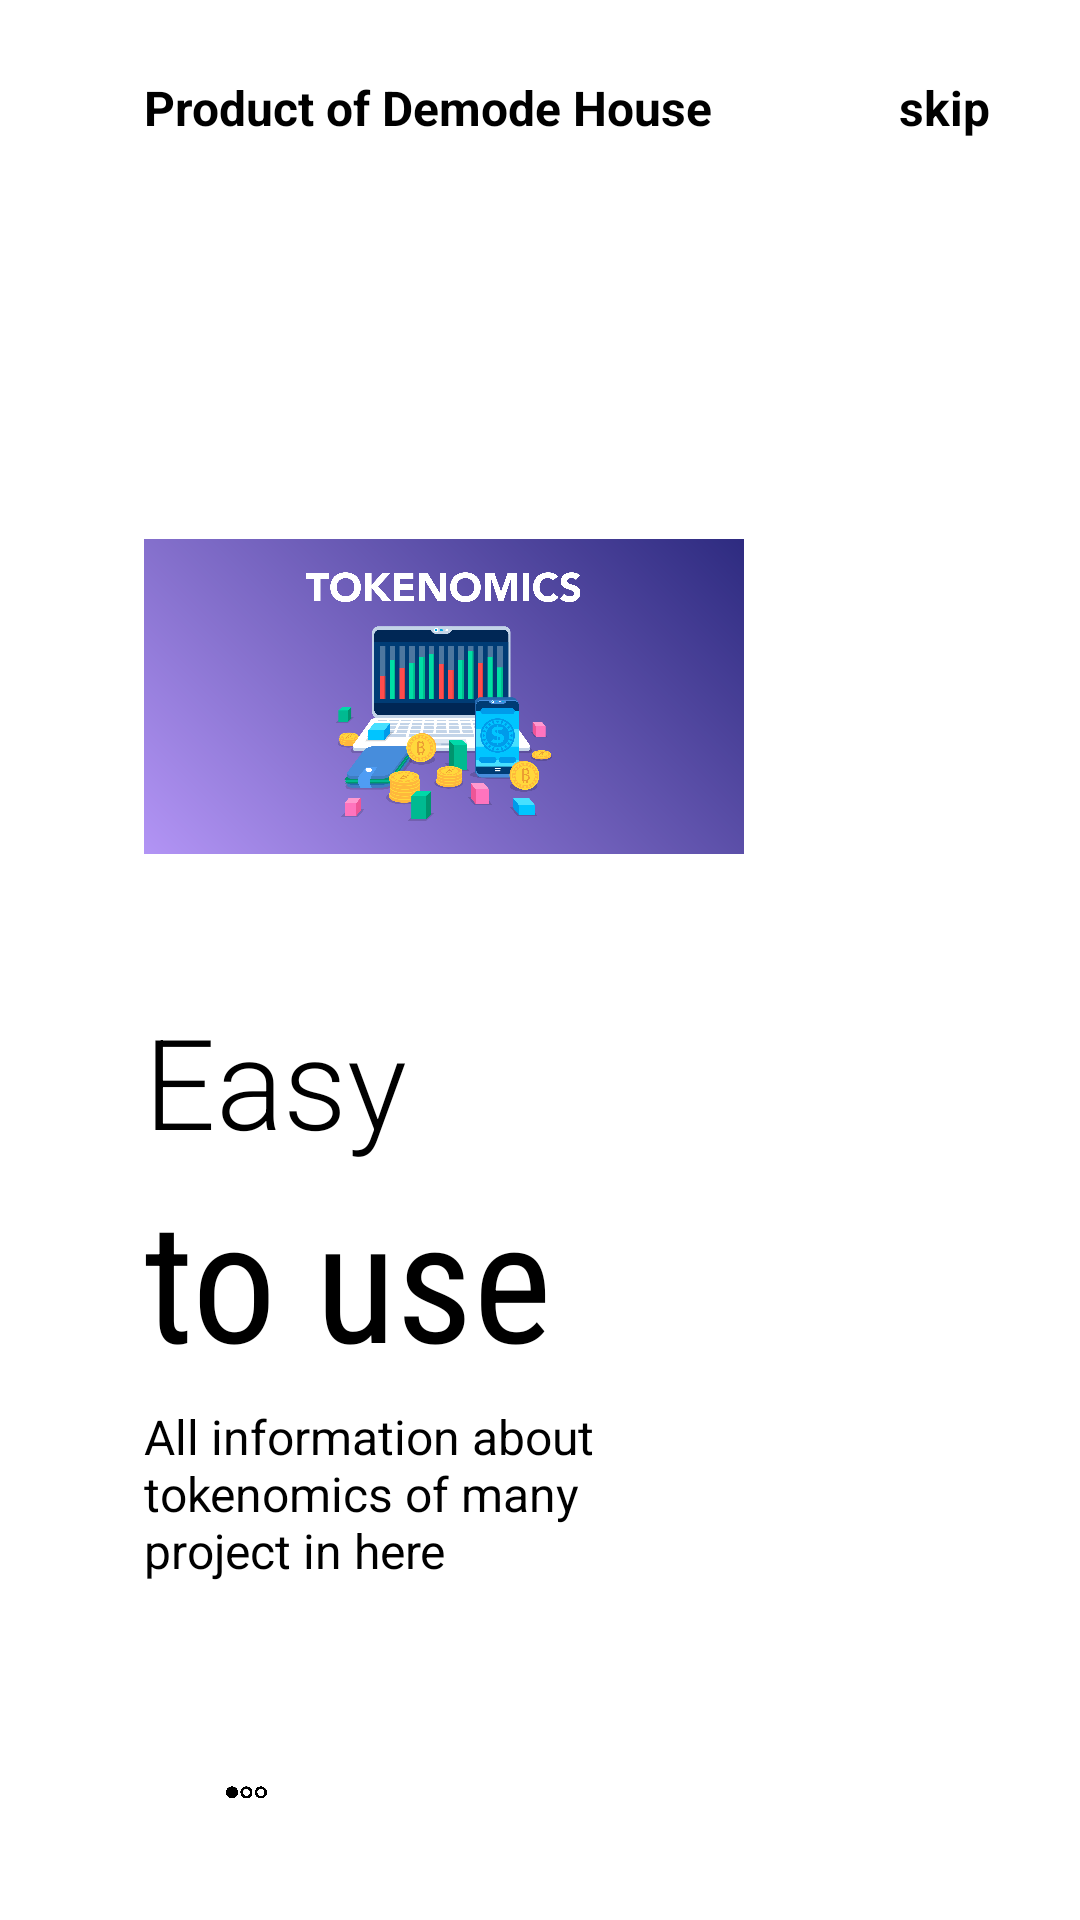

Where icons sit on this 1080 × 1920 app screen, as Rect(x1, y1, x2, y2):
dot: Rect(226, 1786, 267, 1798)
